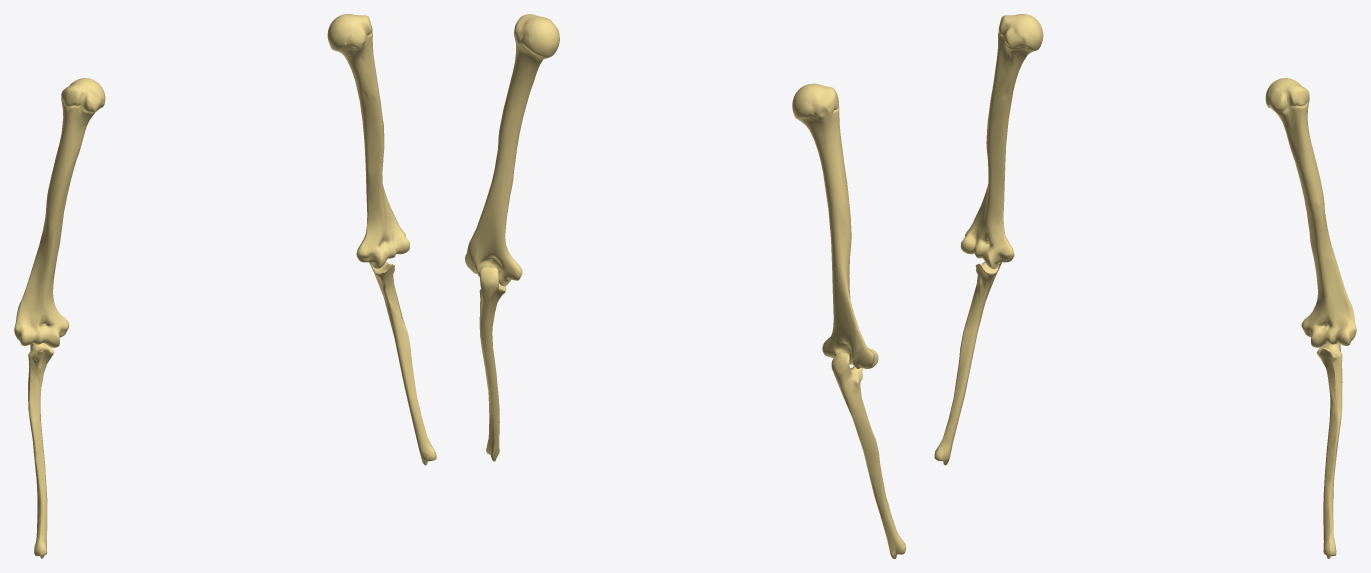
The model's file is elbow-forearm.glb.
3 renders of one model, left to right at view 1: azimuth 30°, elevation 25°; view 2: azimuth 150°, elevation 25°; view 3: azimuth 330°, elevation 25°, orthographic. The views are drawn at different scales.
Visible parts, largest first — view 1: elbow-forearm:humerus:isa:FJ3368, elbow-forearm:humerus:isa:FJ3262, elbow-forearm:ulna:isa:FJ3286, elbow-forearm:ulna:isa:FJ3391; view 2: elbow-forearm:humerus:isa:FJ3262, elbow-forearm:humerus:isa:FJ3368, elbow-forearm:ulna:isa:FJ3391, elbow-forearm:ulna:isa:FJ3286; view 3: elbow-forearm:humerus:isa:FJ3262, elbow-forearm:humerus:isa:FJ3368, elbow-forearm:ulna:isa:FJ3391, elbow-forearm:ulna:isa:FJ3286.
Boxes of the visible parts, x1,y1,x2,y2 form: elbow-forearm:humerus:isa:FJ3368: (14, 78, 105, 347); elbow-forearm:humerus:isa:FJ3262: (327, 14, 409, 268); elbow-forearm:ulna:isa:FJ3286: (369, 261, 436, 465); elbow-forearm:ulna:isa:FJ3391: (28, 343, 53, 558); elbow-forearm:humerus:isa:FJ3262: (465, 14, 559, 286); elbow-forearm:humerus:isa:FJ3368: (792, 83, 878, 368); elbow-forearm:ulna:isa:FJ3391: (831, 352, 905, 558); elbow-forearm:ulna:isa:FJ3286: (479, 266, 506, 461); elbow-forearm:humerus:isa:FJ3262: (1265, 78, 1356, 347); elbow-forearm:humerus:isa:FJ3368: (960, 14, 1043, 268); elbow-forearm:ulna:isa:FJ3391: (934, 261, 1001, 465); elbow-forearm:ulna:isa:FJ3286: (1317, 343, 1342, 558).
Bounding box in the file's own units: 0.4943 × 0.5315 × 0.0789.
